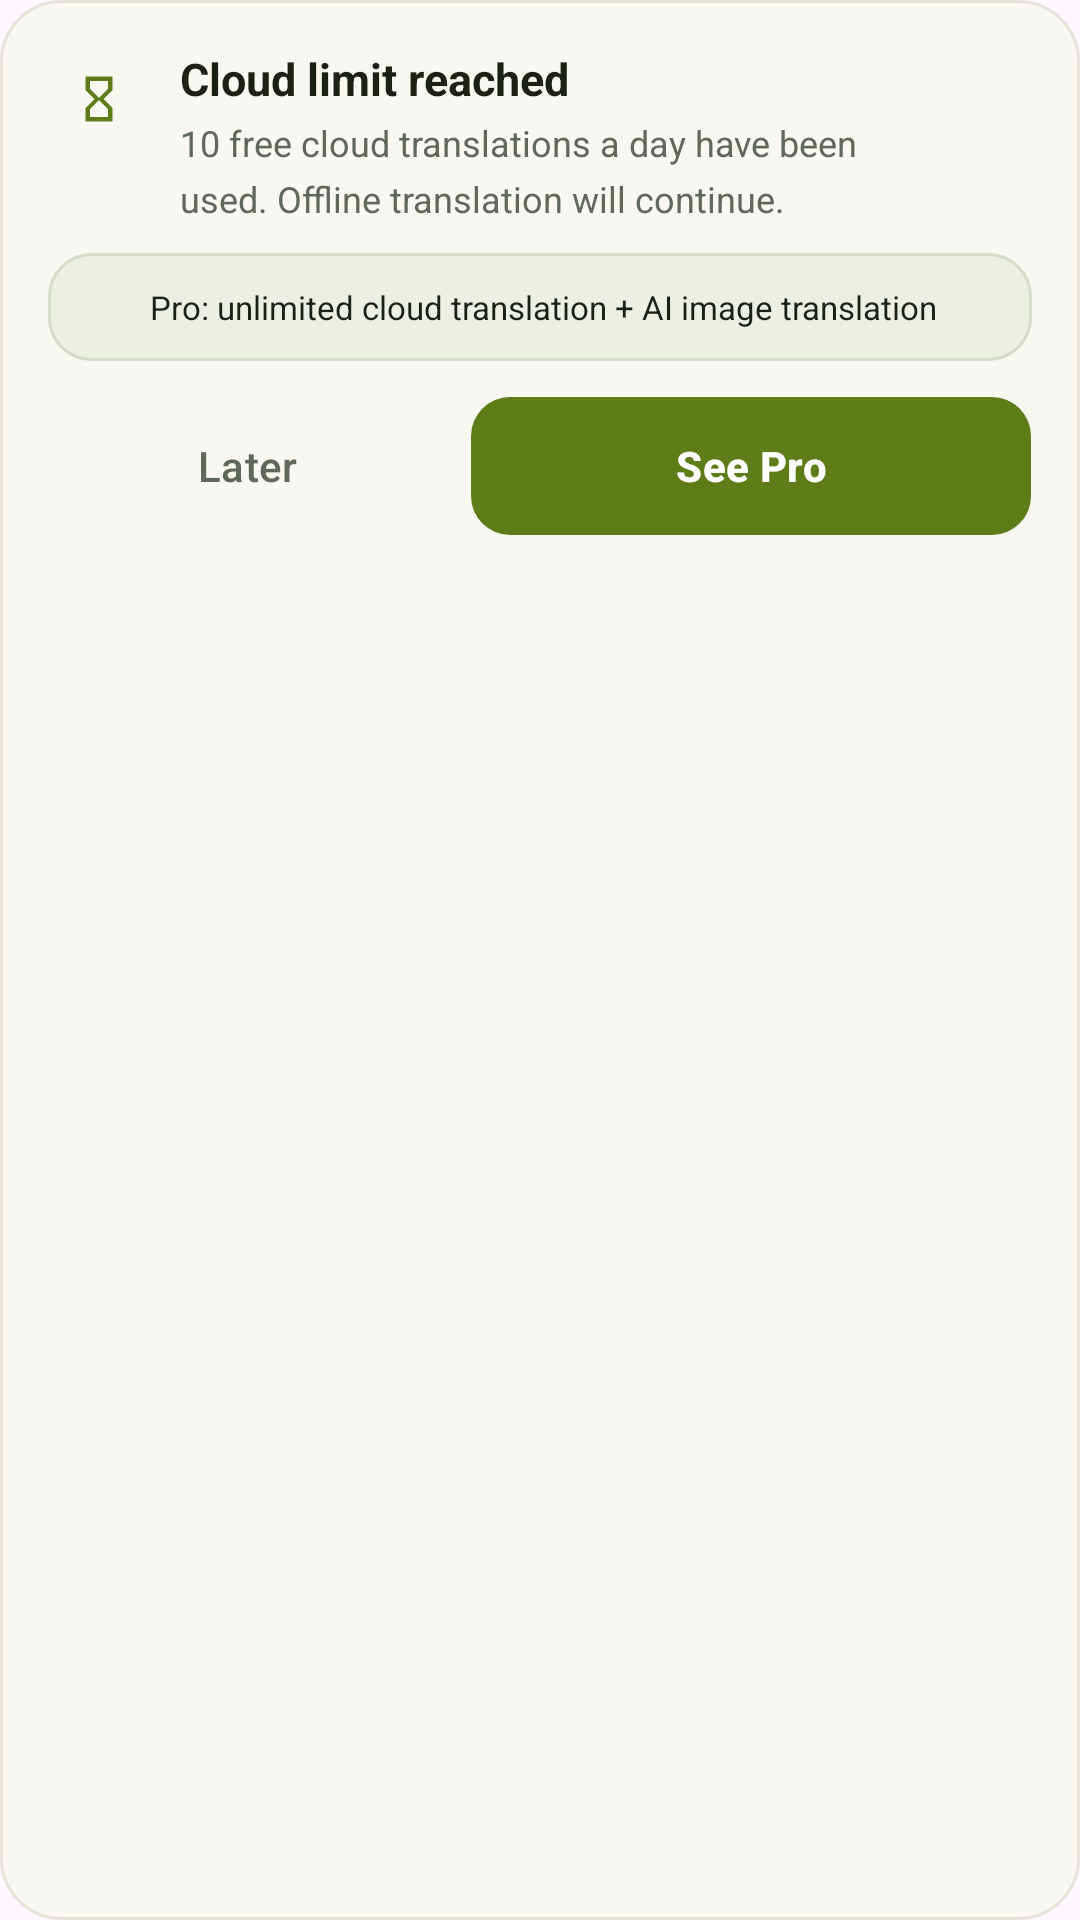

Icons on this 1080w x 1920h Android screen, each with the point to tap as [x,y]:
hourglass: [99,99]
